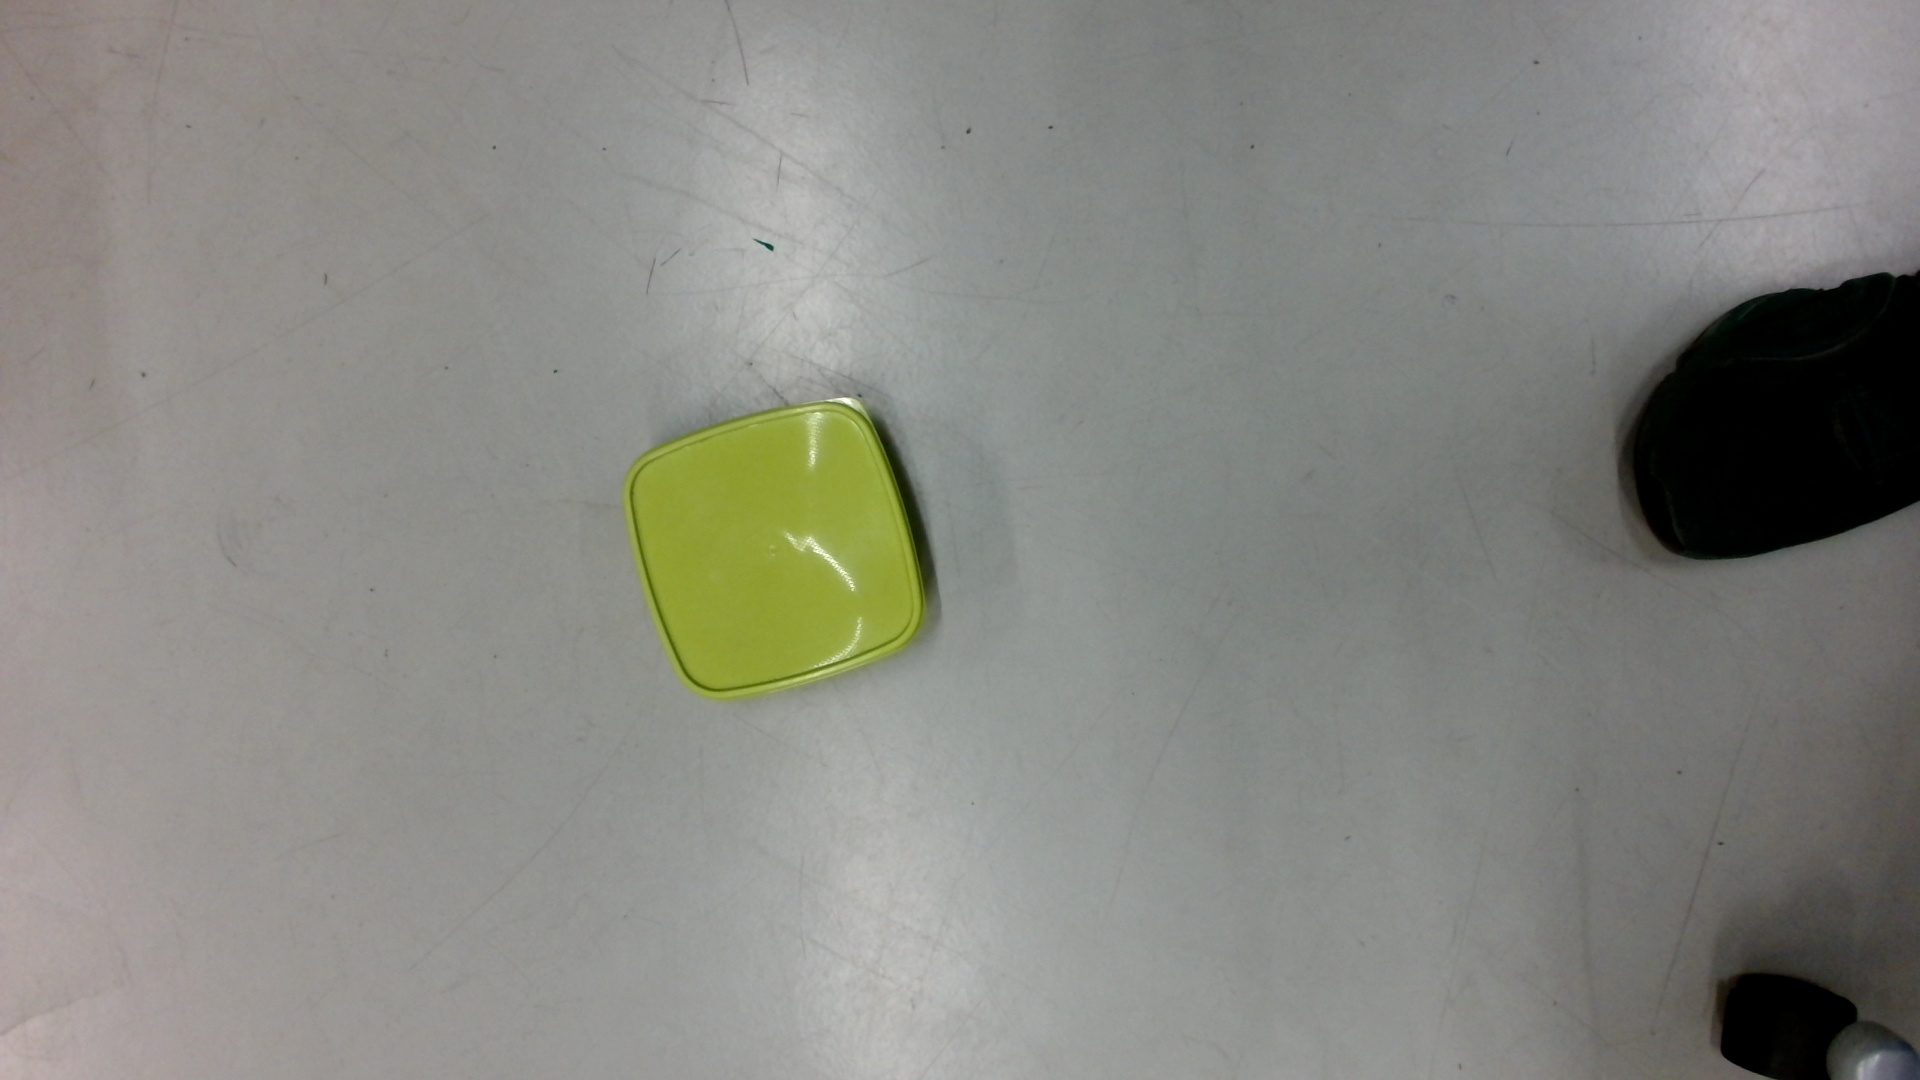Box: (616, 389, 939, 713)
